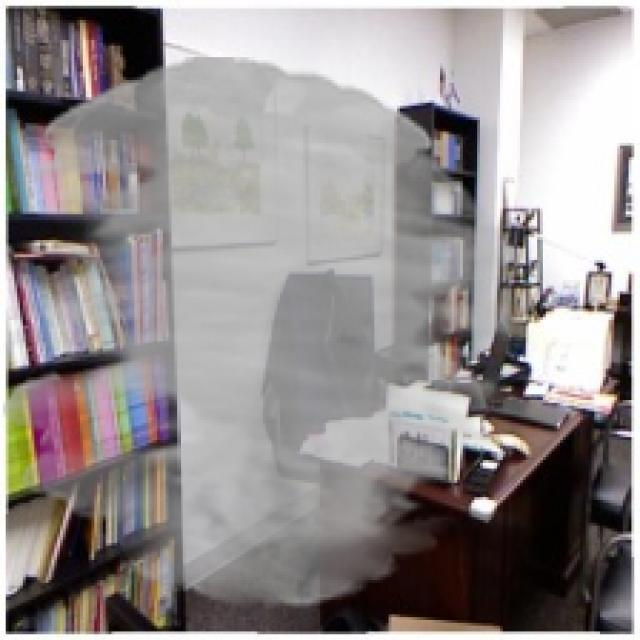Smoke: (2, 57, 528, 609)
